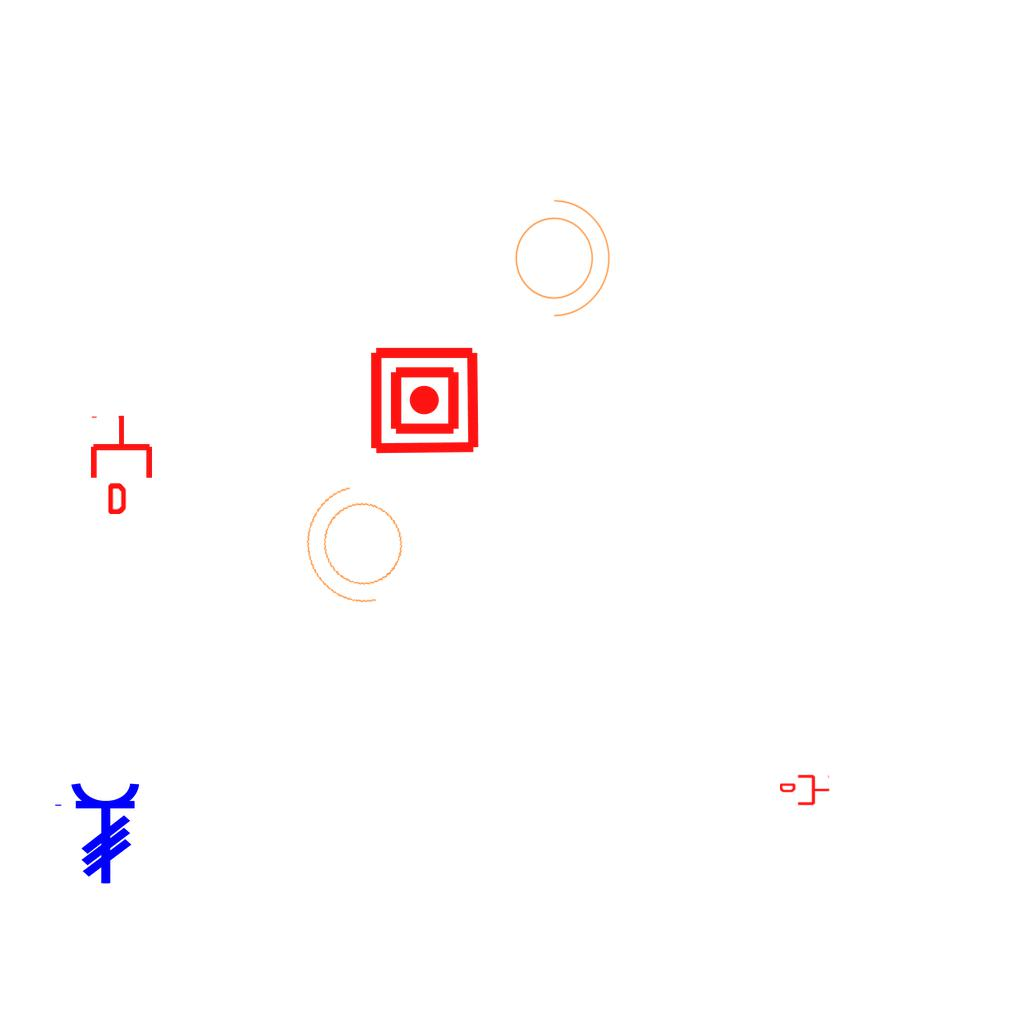CEE_Drehstrom_Steckdose_16_32_A: (52, 781, 142, 885)
Datenanschluss_einfach: (87, 414, 156, 514), (780, 773, 830, 807)
NAM-Nichtautomatischer_Melder: (368, 344, 481, 457)
Scheinwerfer_fuer_Alarmbeleuchtung: (289, 471, 429, 625), (503, 189, 615, 321)
